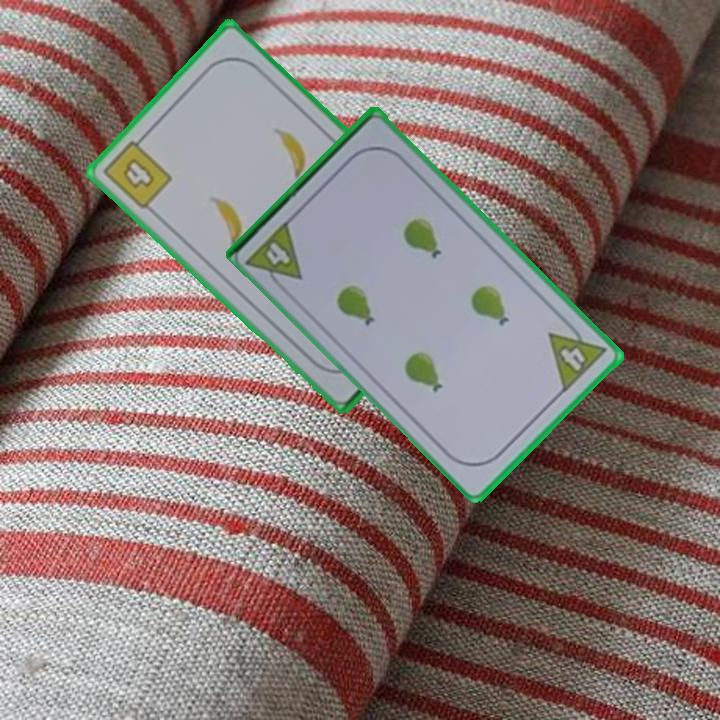4b: (99, 130, 175, 213)
4p: (545, 314, 610, 395), (244, 216, 305, 296)
